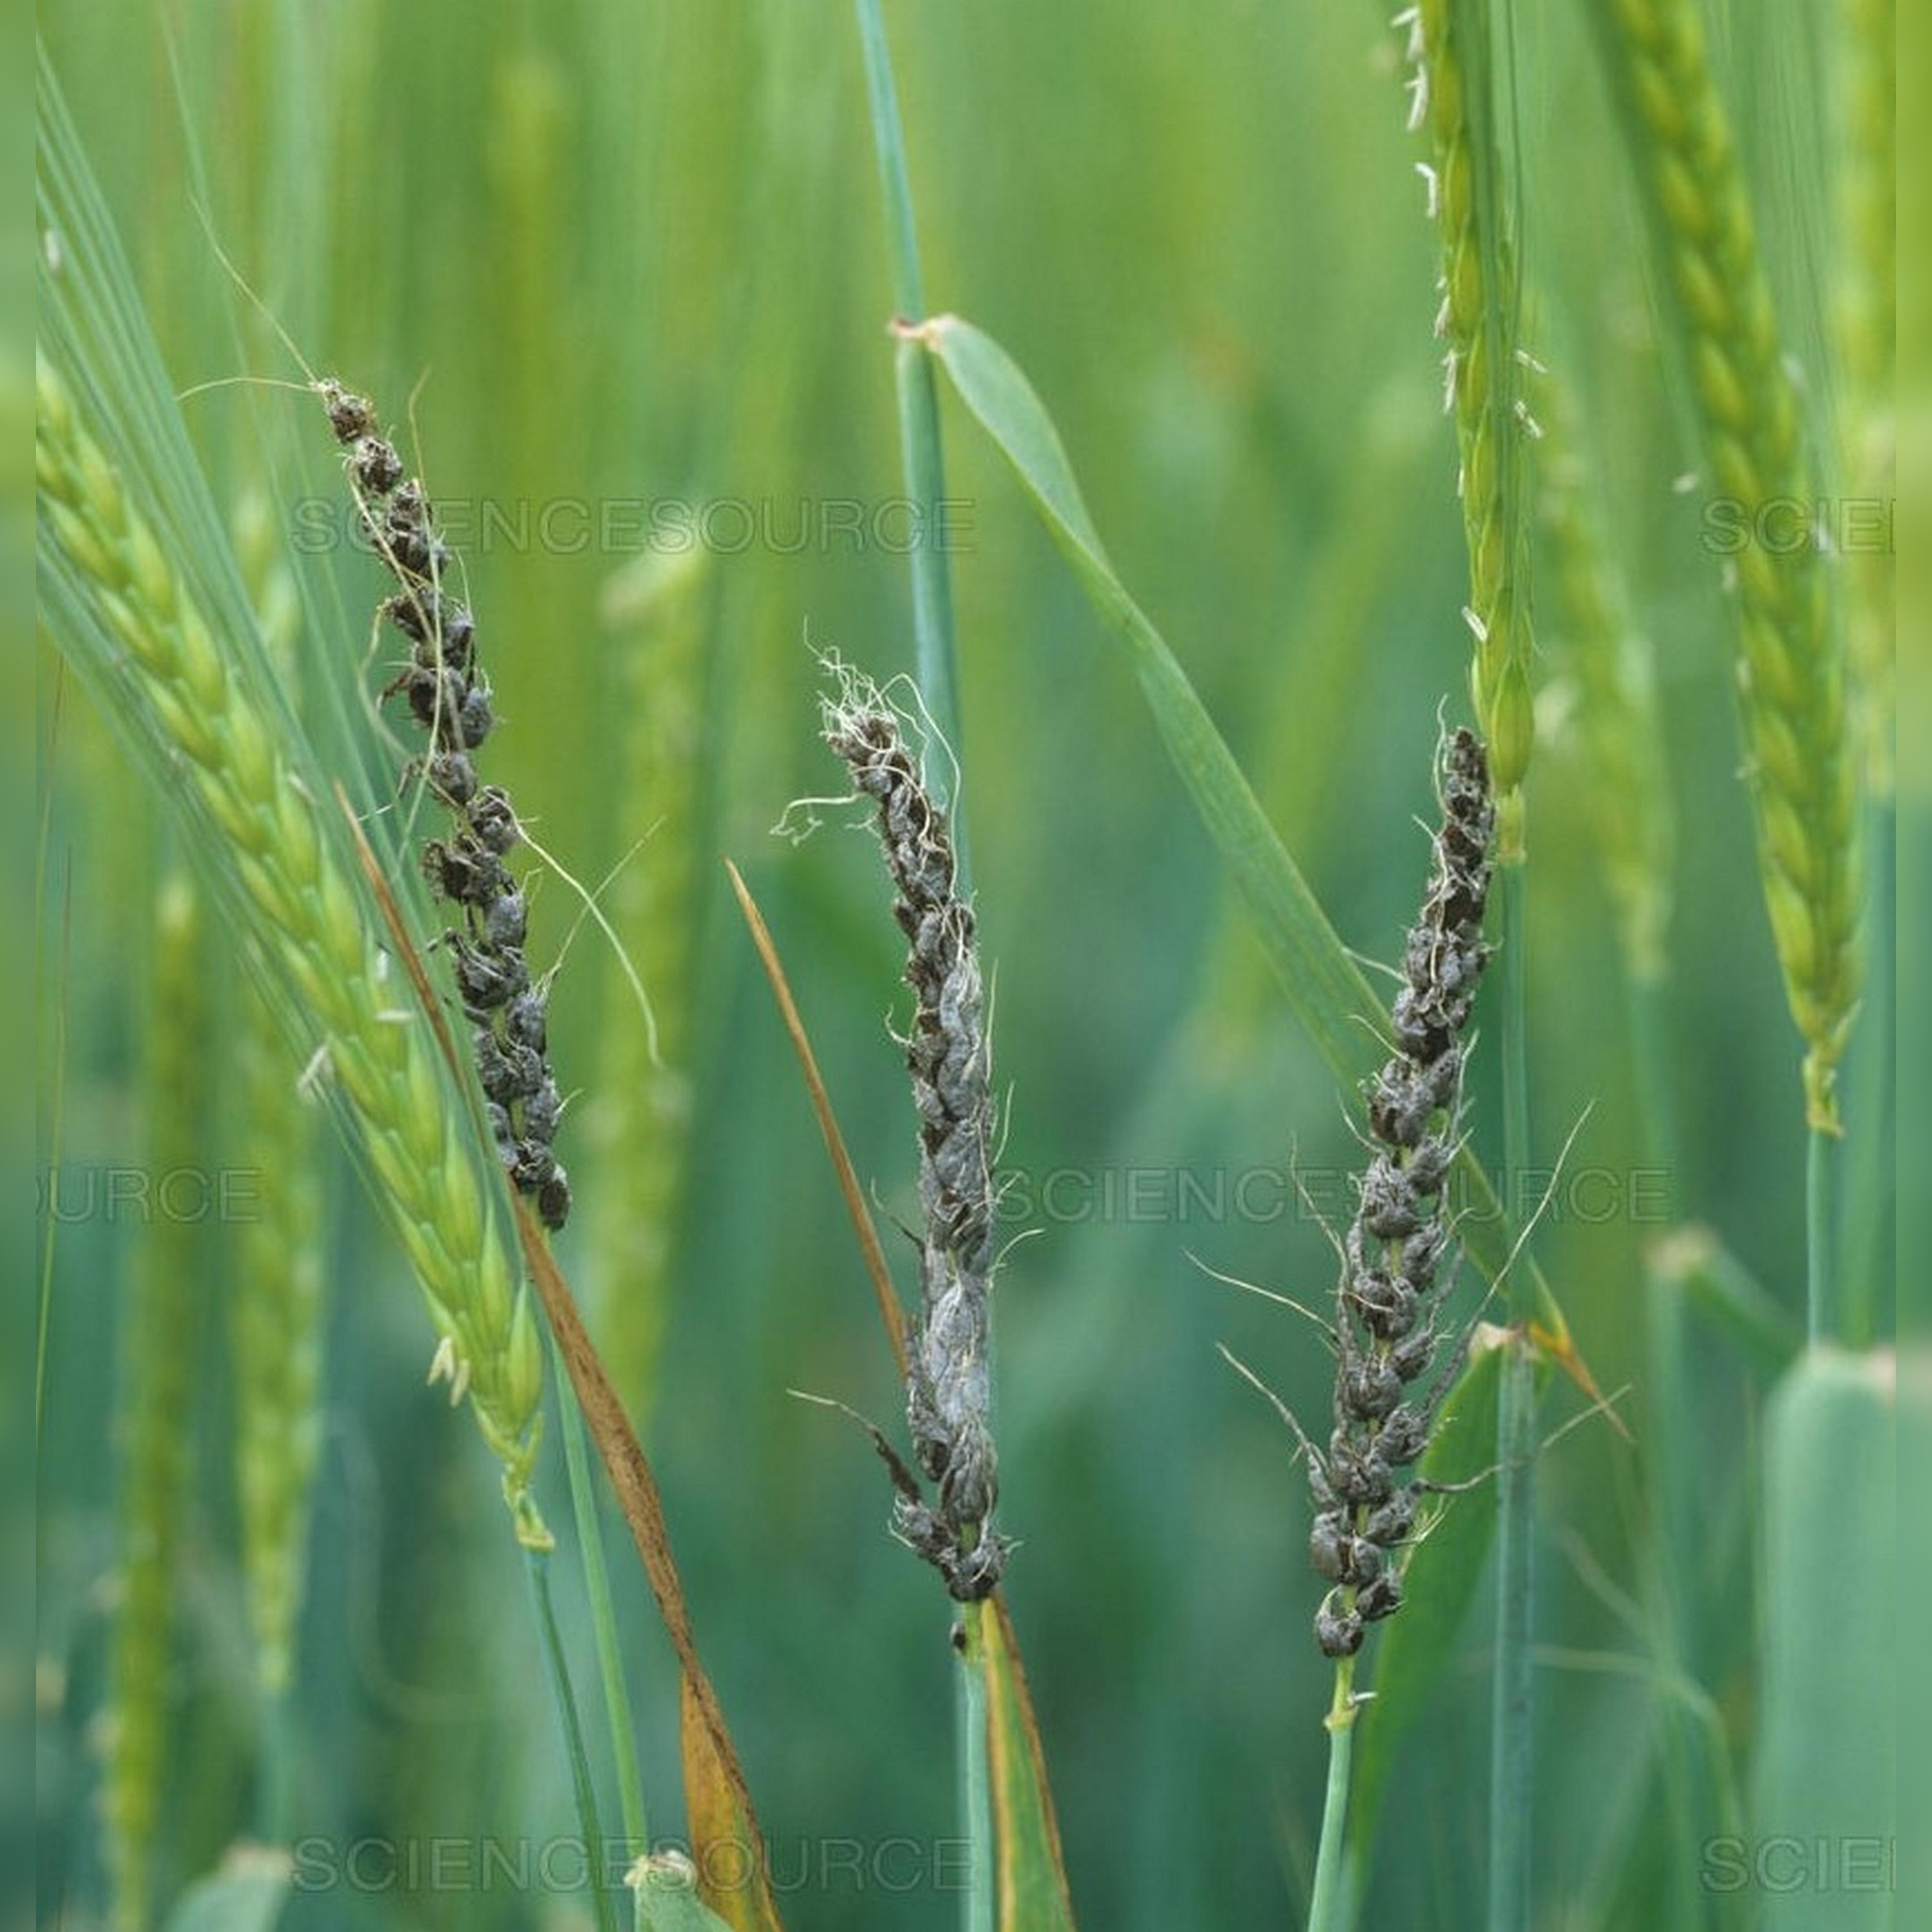Wheat Loose Smut: (1185, 678, 1518, 1679), (288, 389, 617, 1208), (778, 642, 1044, 1608)
